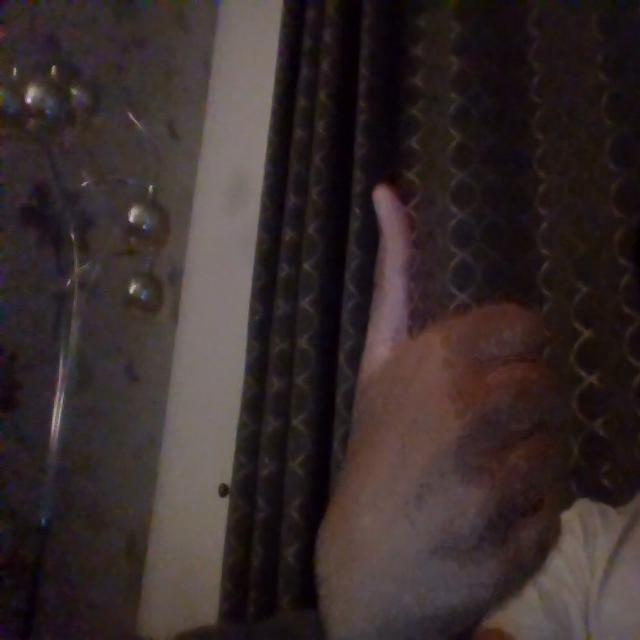hand thumb up: (325, 184, 569, 636)
